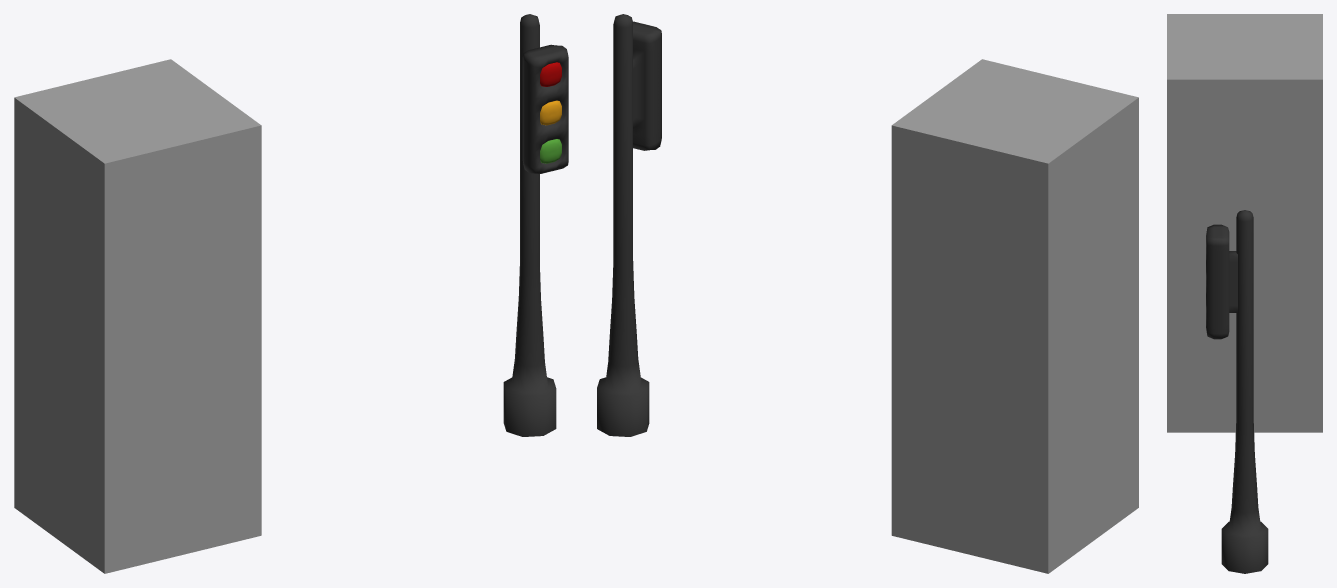
Rendered from TrafficLight.obj.
3 views of the same model, side by side, from view 1: azimuth 30°, elevation 25°; view 2: azimuth 150°, elevation 25°; view 3: azimuth 270°, elevation 25° (orthographic). The views are drawn at different scales.
Visible parts, largest first — view 1: Cube, Circle; view 2: Cube, Circle; view 3: Cube, Circle.
Boxes of the visible parts, x1=… form: Cube: x1=14, y1=59, x2=261, y2=573; Circle: x1=503, y1=14, x2=568, y2=436; Cube: x1=891, y1=59, x2=1138, y2=573; Circle: x1=597, y1=14, x2=661, y2=436; Cube: x1=1167, y1=14, x2=1322, y2=432; Circle: x1=1206, y1=210, x2=1268, y2=573.
Size of the model in its own units: 6.3 by 5.02 by 2.
